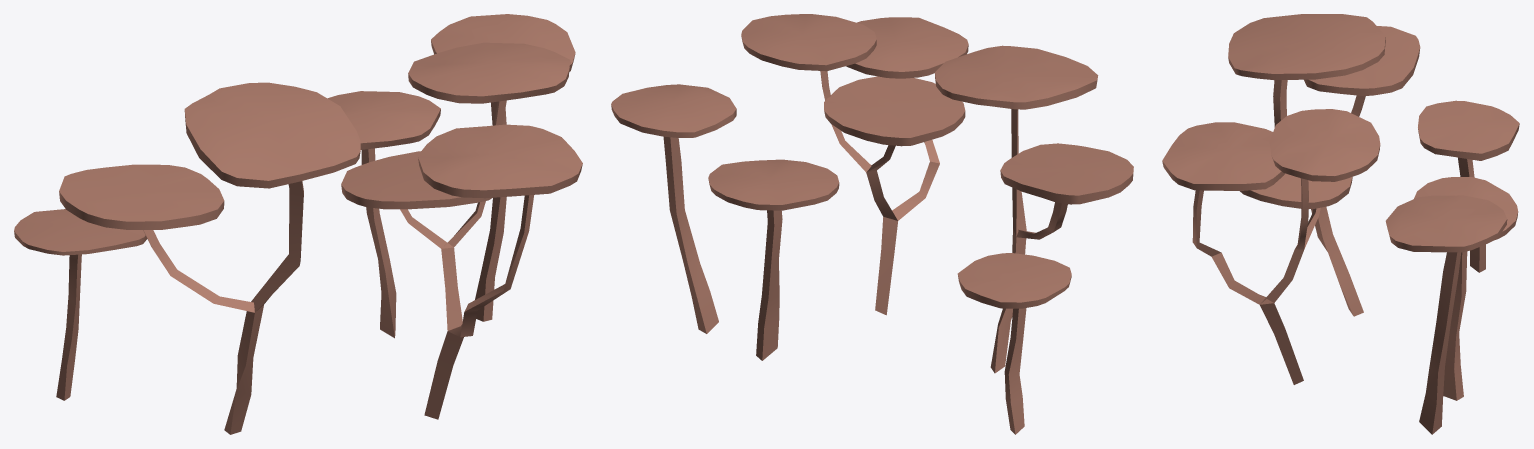
Rendered from coral_plates_C.fbx.
3 views of the same model, side by side, from view 1: azimuth 30°, elevation 25°; view 2: azimuth 150°, elevation 25°; view 3: azimuth 270°, elevation 25° (orthographic). The views are drawn at different scales.
Parts seen in each view (by area): view 1: coral_plates_C_B, coral_plates_C_A, coral_plates_C_D, coral_plates_C_E, coral_plates_C_C; view 2: coral_plates_C_A, coral_plates_C_B, coral_plates_C_C, coral_plates_C_D, coral_plates_C_E; view 3: coral_plates_C_A, coral_plates_C_B, coral_plates_C_C, coral_plates_C_E, coral_plates_C_D.
Part boxes in pixels (x1=…): coral_plates_C_B: x1=59, y1=82, x2=360, y2=434; coral_plates_C_A: x1=341, y1=42, x2=582, y2=419; coral_plates_C_D: x1=327, y1=91, x2=440, y2=338; coral_plates_C_E: x1=14, y1=209, x2=147, y2=400; coral_plates_C_C: x1=431, y1=14, x2=575, y2=321; coral_plates_C_A: x1=741, y1=14, x2=968, y2=315; coral_plates_C_B: x1=935, y1=45, x2=1133, y2=373; coral_plates_C_C: x1=611, y1=84, x2=736, y2=333; coral_plates_C_D: x1=708, y1=159, x2=839, y2=360; coral_plates_C_E: x1=957, y1=253, x2=1071, y2=434; coral_plates_C_A: x1=1162, y1=109, x2=1380, y2=384; coral_plates_C_B: x1=1228, y1=14, x2=1420, y2=316; coral_plates_C_C: x1=1385, y1=195, x2=1507, y2=434; coral_plates_C_E: x1=1418, y1=100, x2=1519, y2=272; coral_plates_C_D: x1=1414, y1=177, x2=1518, y2=400.
Bounding box in the file's own units: 171 × 99.78 × 115.
